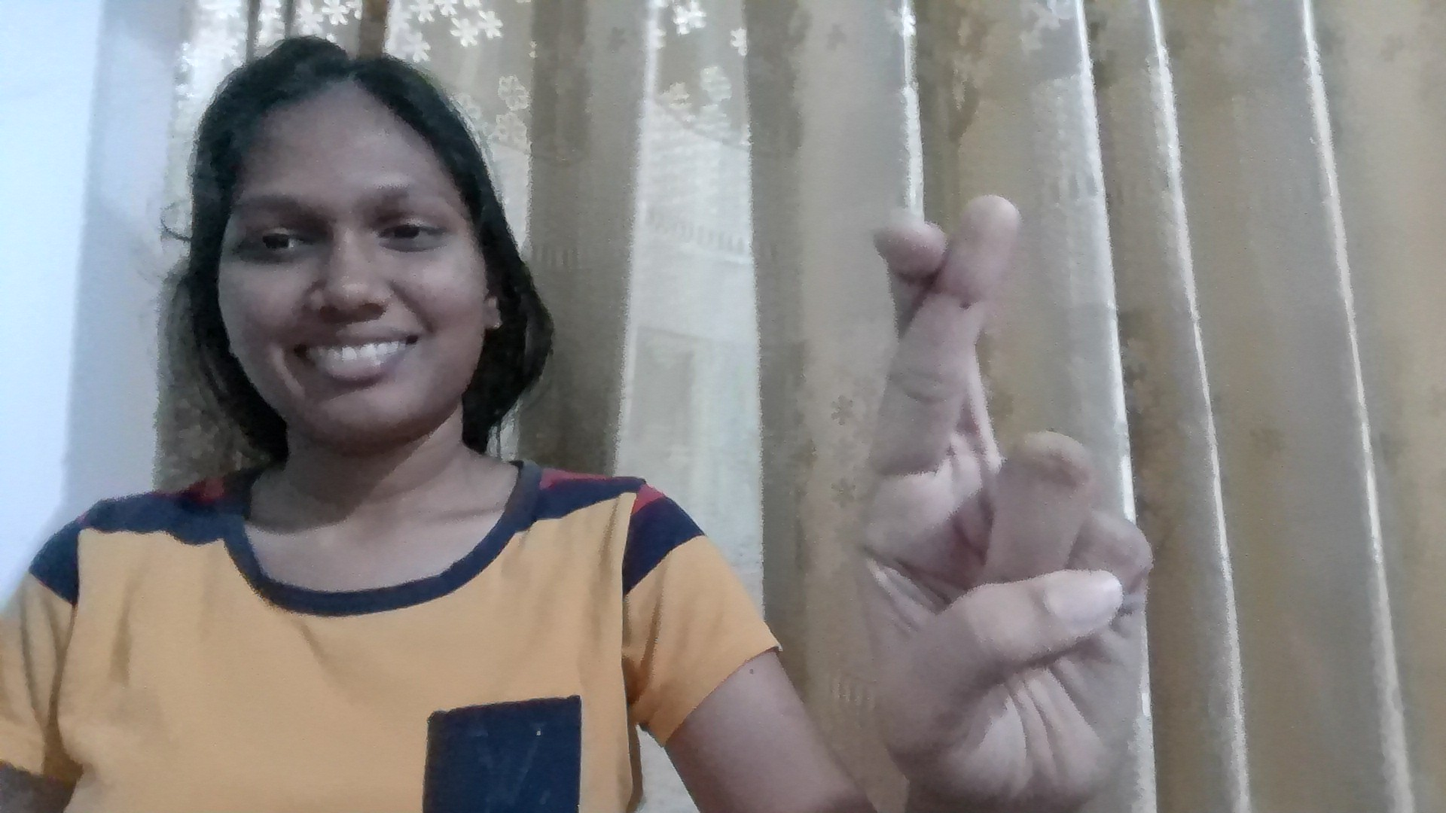Good_Luck: (778, 169, 1261, 813)
